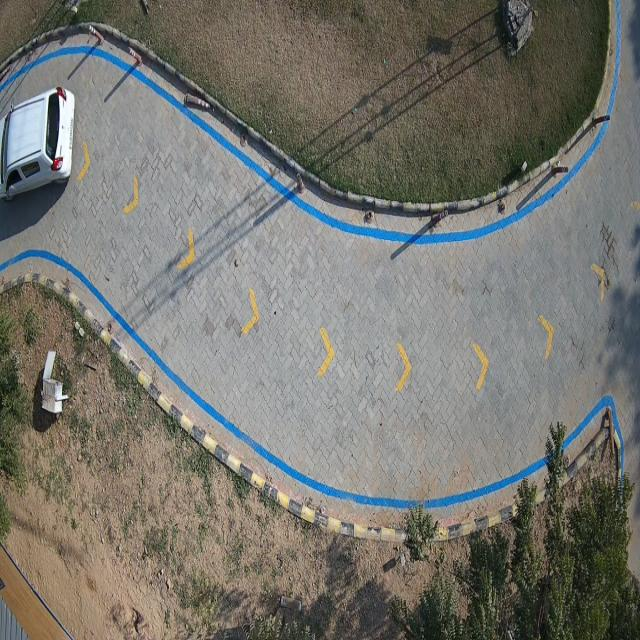car: (0, 88, 77, 203)
